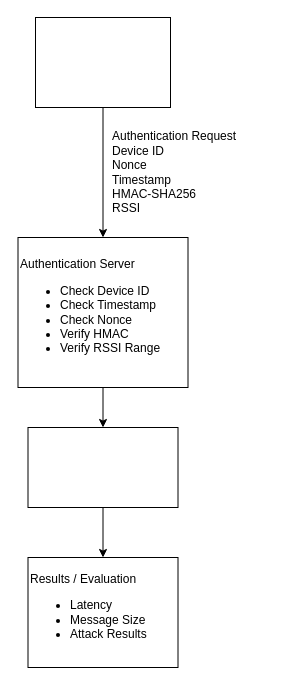
The diagram is 287 pixels wide and 685 high, and some of its shapes have lost their labels. The shapes that lost their labels are listed below. From the top down, each one's centre as x and y in pixels, then its label:
At [102,62]: "Resource-Constrained IoT Device ESP32 / Raspberry Pi Pico".
At [102,467]: "Authentication Decision ACCEPT / REJECT".
